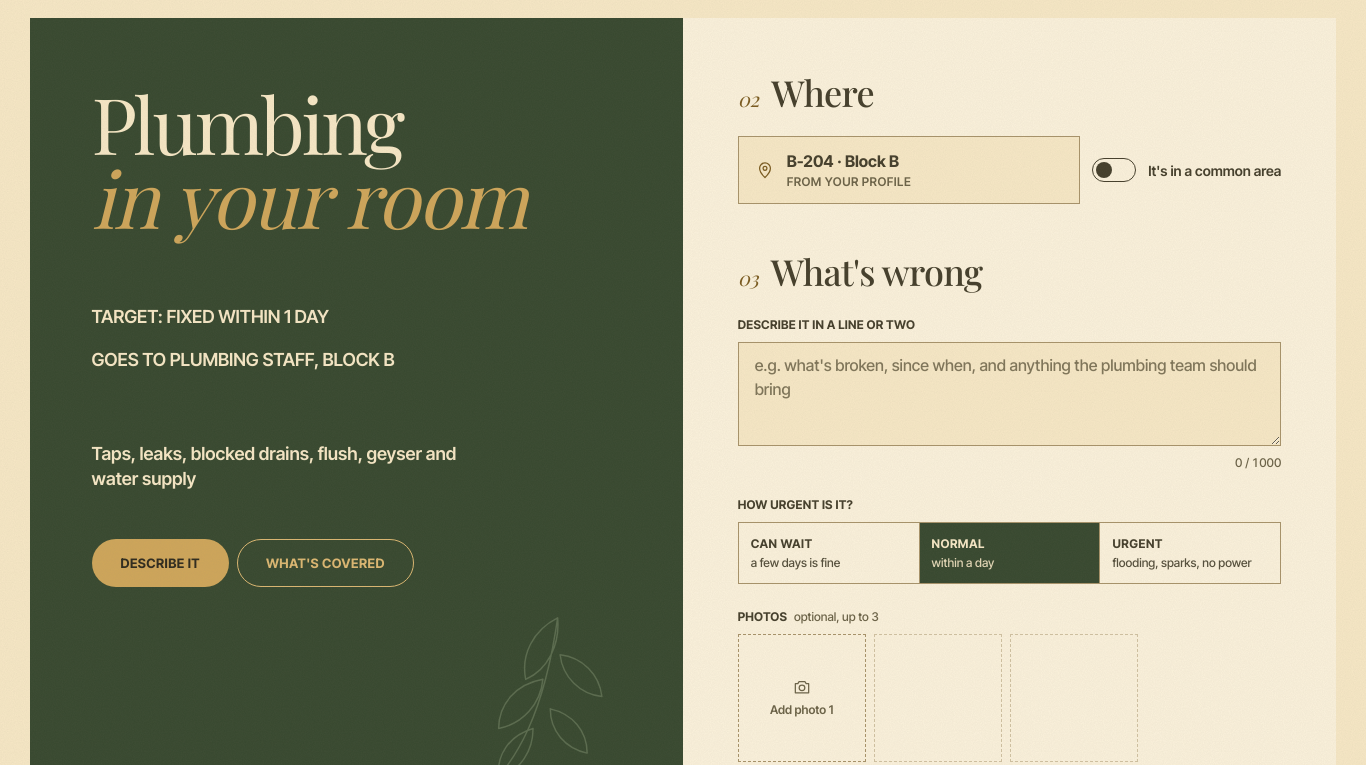
it: Raise a complaint › reuses the same Idempotency-Key when a dropped submit is retried
Later steps or results of the test are not shown.
(page scrolled)
In the text box labelled "Describe it in a line or two": (1009, 394) x1=738 y1=342 x2=1281 y2=446, type "Tap drips all night and keeps me awake"
(page scrolled)
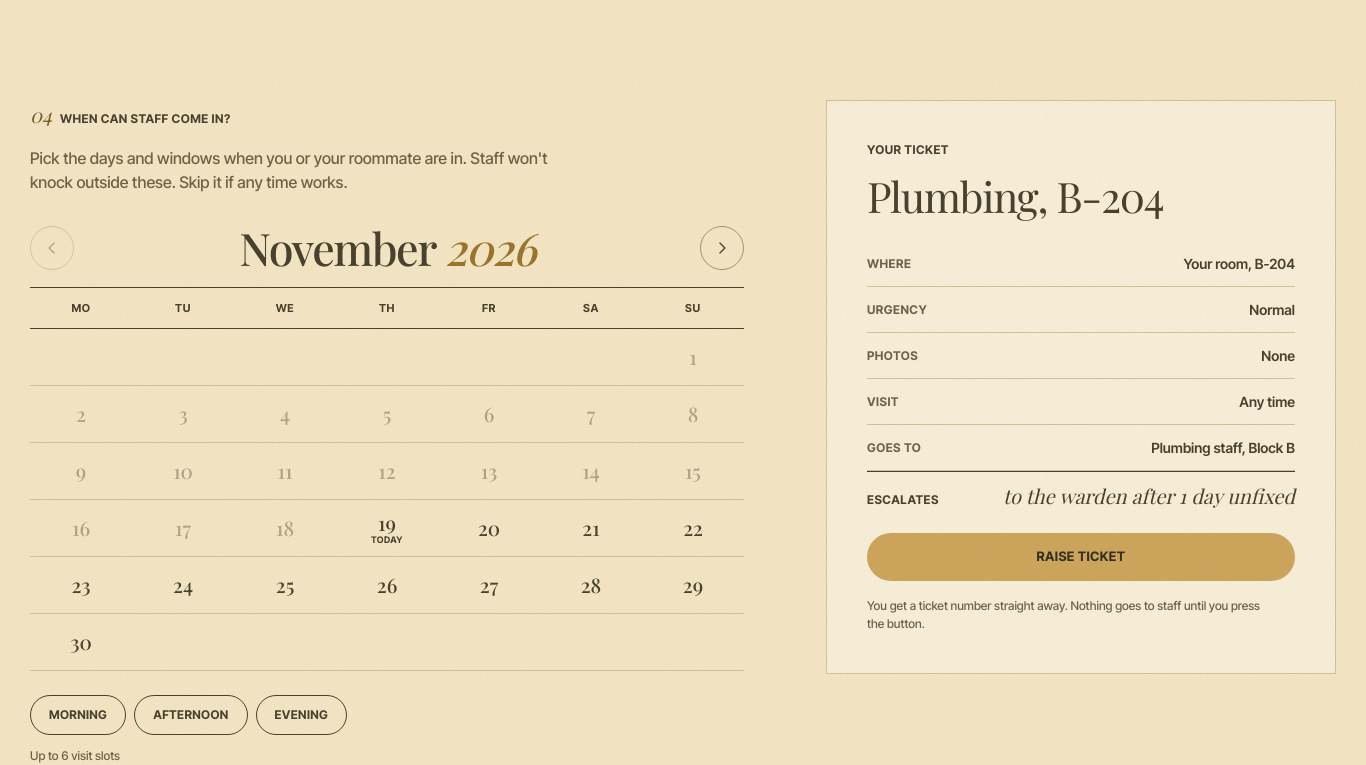
Click the button "Raise ticket": (1081, 557) x1=867 y1=533 x2=1295 y2=581
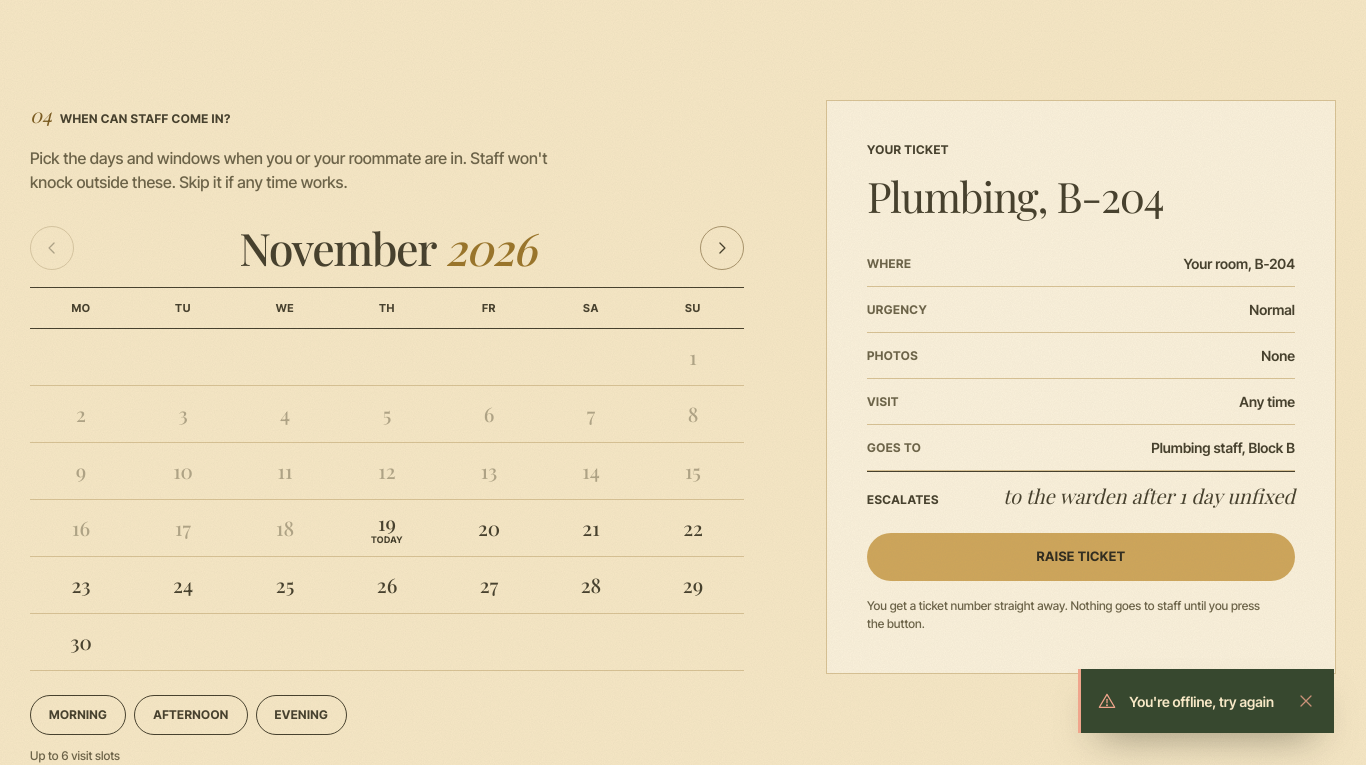
Expected: the text "You're offline, try again" is shown, x1=1129 y1=690 x2=1274 y2=712
